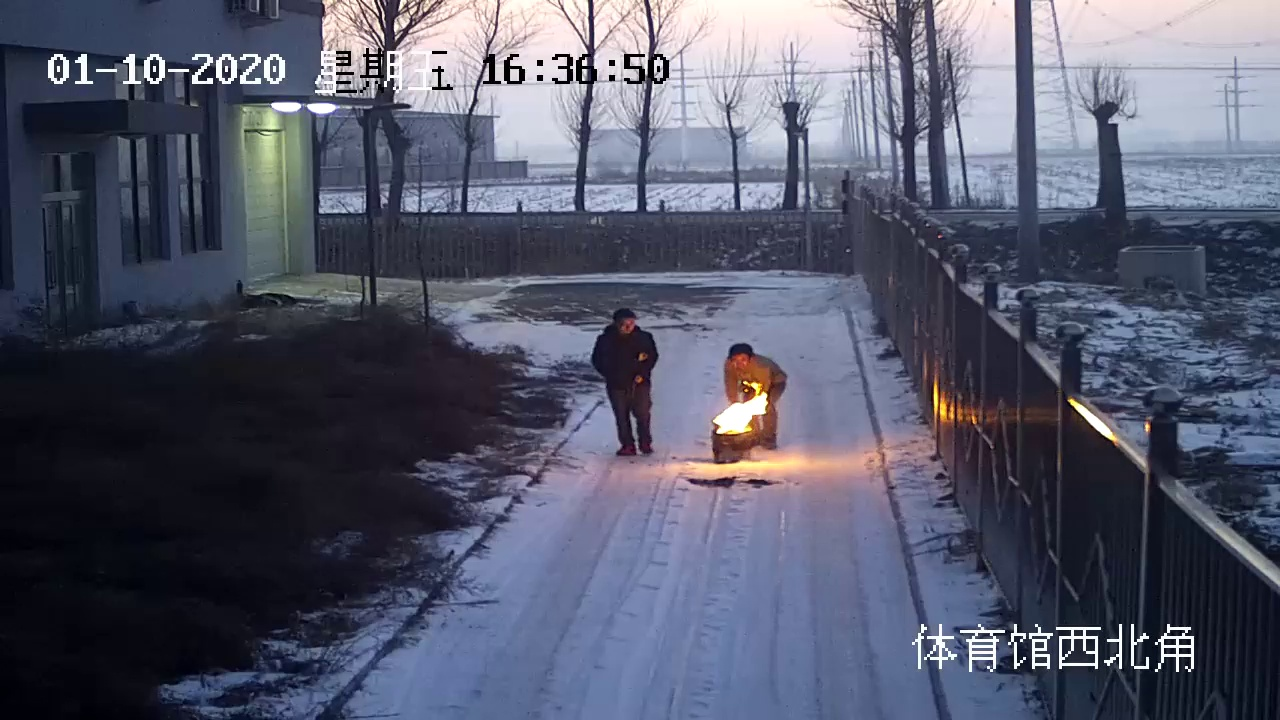fire: (705, 385, 775, 436)
